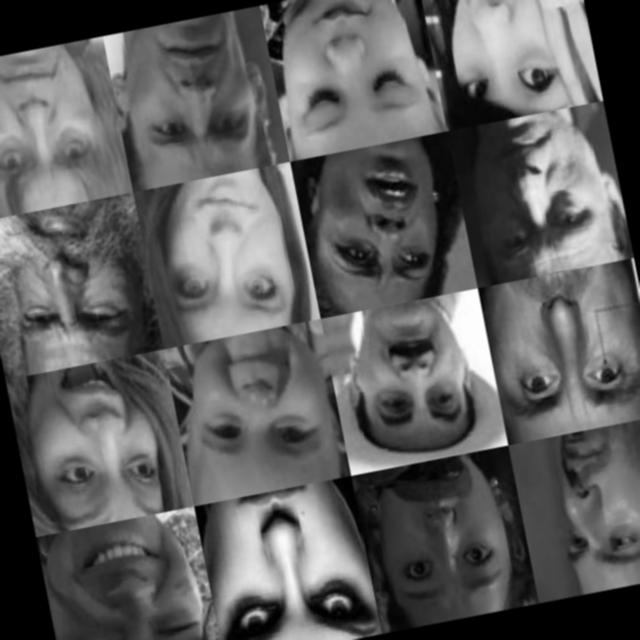angry: (199, 479, 379, 640), (462, 113, 612, 276), (0, 200, 150, 362), (0, 45, 111, 205), (539, 422, 640, 587)
fear: (29, 358, 174, 536), (304, 144, 455, 314), (120, 10, 266, 176), (369, 459, 515, 620)
happy: (144, 172, 298, 340), (42, 514, 213, 640), (432, 0, 573, 125)
neutral: (346, 302, 481, 454)
sad: (488, 262, 640, 436), (178, 330, 338, 490), (270, 0, 433, 152)
